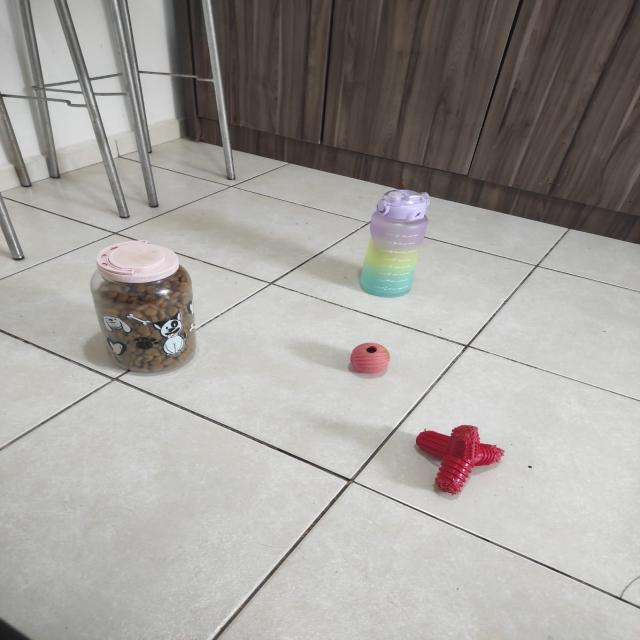bolinha: (344, 338, 399, 378)
brinquedo caro: (402, 413, 512, 506)
garrafinha de agua: (346, 187, 451, 293)
racao: (81, 240, 214, 379)
